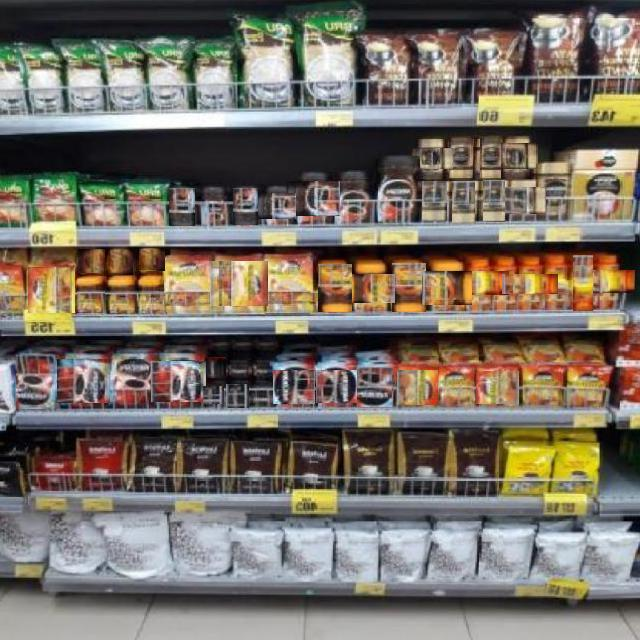Coffee: (379, 156, 420, 223), (265, 254, 310, 314), (210, 262, 268, 306), (166, 255, 210, 312), (55, 360, 110, 403), (110, 354, 152, 407), (16, 355, 57, 409), (28, 266, 75, 313), (151, 362, 206, 402), (335, 171, 371, 225), (288, 180, 340, 216), (537, 164, 569, 220), (421, 271, 472, 305), (317, 264, 352, 312), (567, 366, 607, 408), (392, 263, 426, 312), (523, 366, 561, 407), (344, 273, 395, 303), (356, 367, 393, 407), (396, 371, 438, 405), (477, 370, 519, 404), (274, 370, 315, 404), (316, 370, 357, 403), (453, 272, 509, 295), (440, 367, 473, 406), (580, 270, 635, 293), (503, 187, 546, 214), (546, 253, 566, 309), (573, 255, 593, 311), (201, 187, 229, 226), (501, 275, 558, 294), (448, 137, 473, 179), (258, 192, 296, 219), (497, 144, 538, 169), (422, 180, 447, 221), (169, 187, 195, 226), (482, 179, 505, 222), (452, 180, 475, 223), (478, 275, 534, 292), (108, 279, 136, 313), (233, 187, 258, 225), (78, 279, 105, 314), (479, 137, 501, 179), (411, 148, 453, 169), (138, 279, 161, 314), (108, 248, 133, 275), (78, 249, 105, 273), (138, 249, 165, 271), (226, 385, 249, 408), (252, 385, 272, 407), (229, 360, 250, 380), (205, 358, 226, 378), (253, 358, 271, 381), (203, 387, 224, 404)
